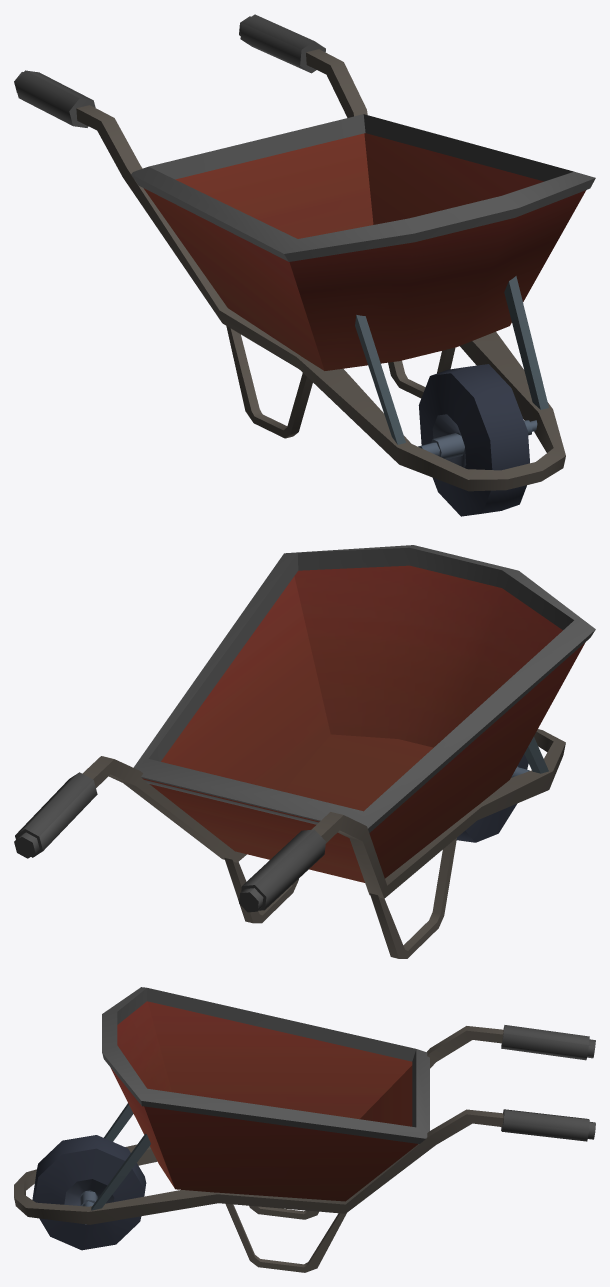
Rendered from WheelBarel_4.fbx.
3 views of the same model, one above another, from view 1: azimuth 30°, elevation 25°; view 2: azimuth 150°, elevation 25°; view 3: azimuth 270°, elevation 25° (orthographic). The views are drawn at different scales.
Visible parts, largest first — view 1: WheelBarel_4; view 2: WheelBarel_4; view 3: WheelBarel_4.
Boxes of the visible parts, x1,y1,x2,y2 form: WheelBarel_4: (14,14,595,516); WheelBarel_4: (14,545,595,958); WheelBarel_4: (14,987,595,1272).
Size of the model in its own units: 99.88 by 88.56 by 216.
